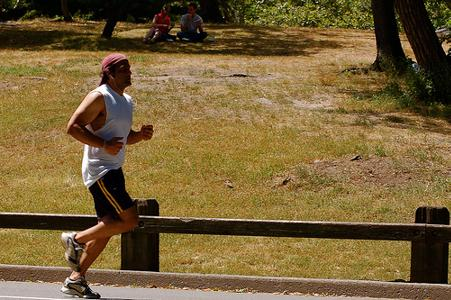person: (61, 55, 158, 300)
